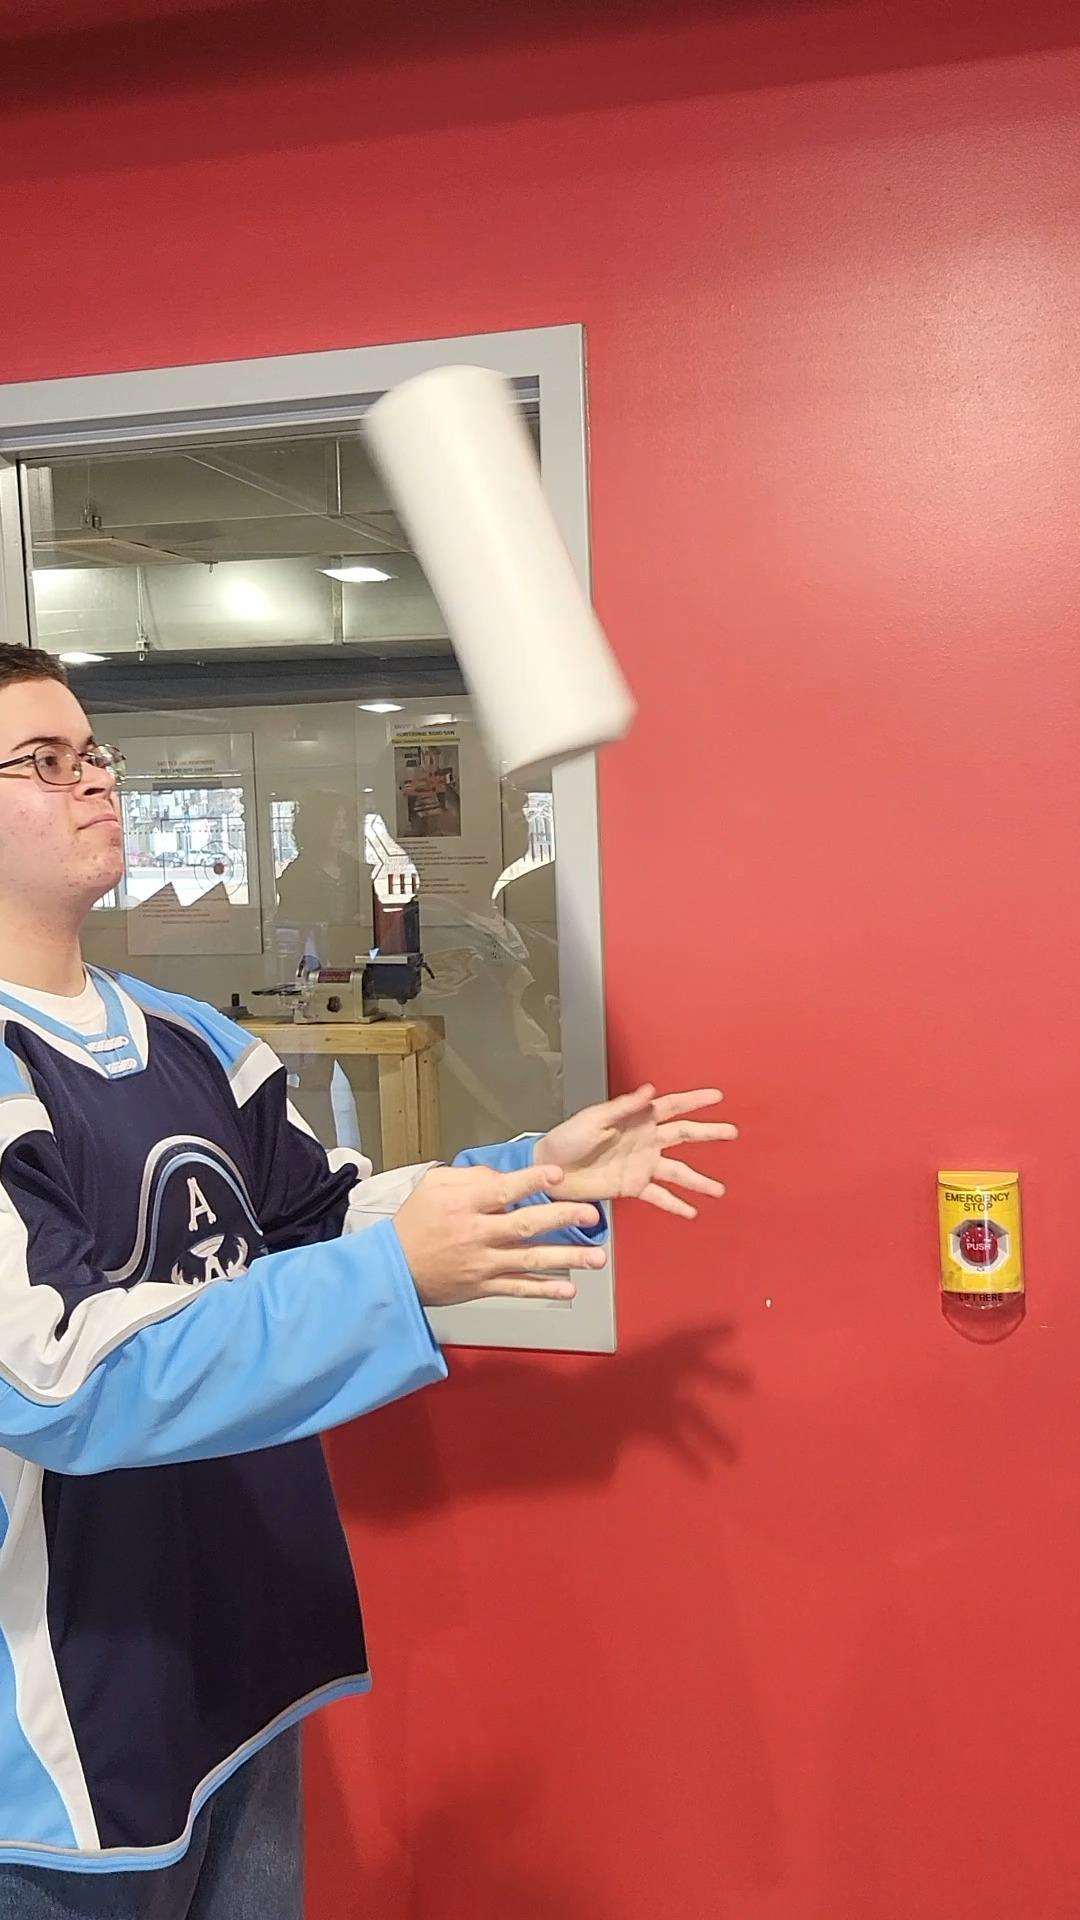coral: (356, 364, 644, 796)
